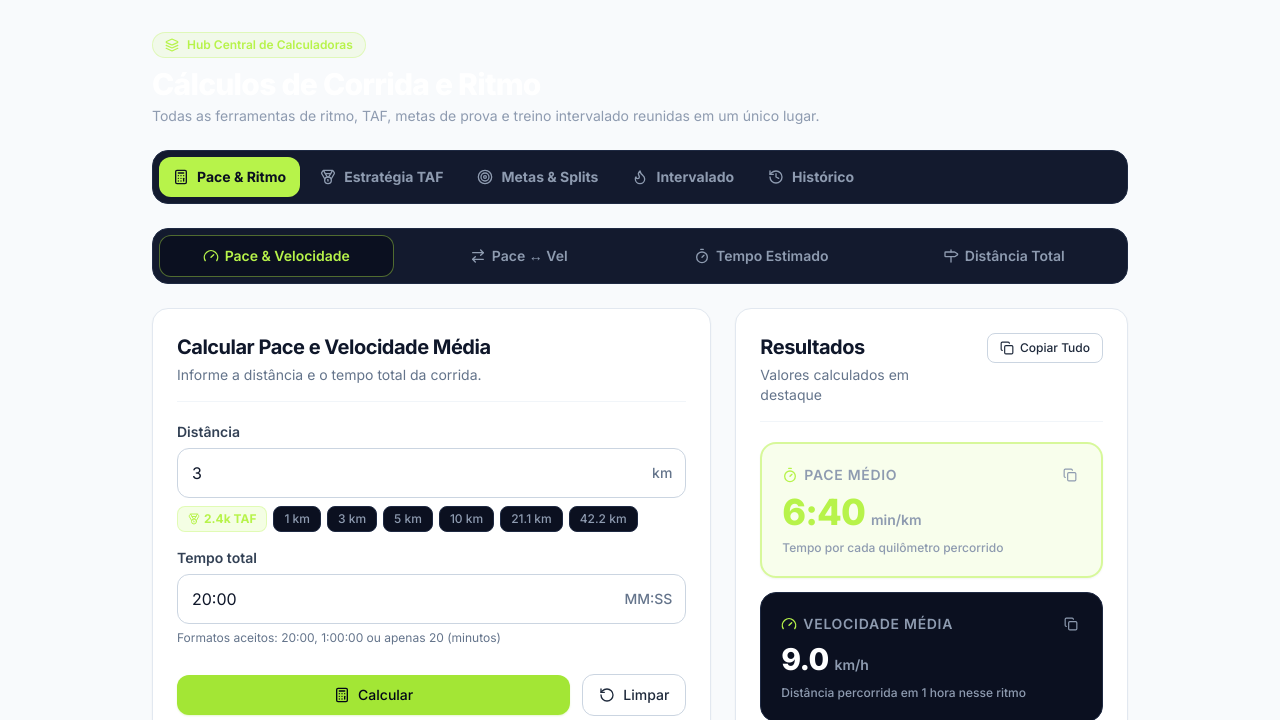
CalculadoraPage › calcula nova distância e tempo (5 km em 25:00 -> pace 5:00 e 12.0 km/h)
Replace the text in the field labelled "Distância" with "5" at coordinates (432, 473), box x1=177 y1=448 x2=686 y2=498
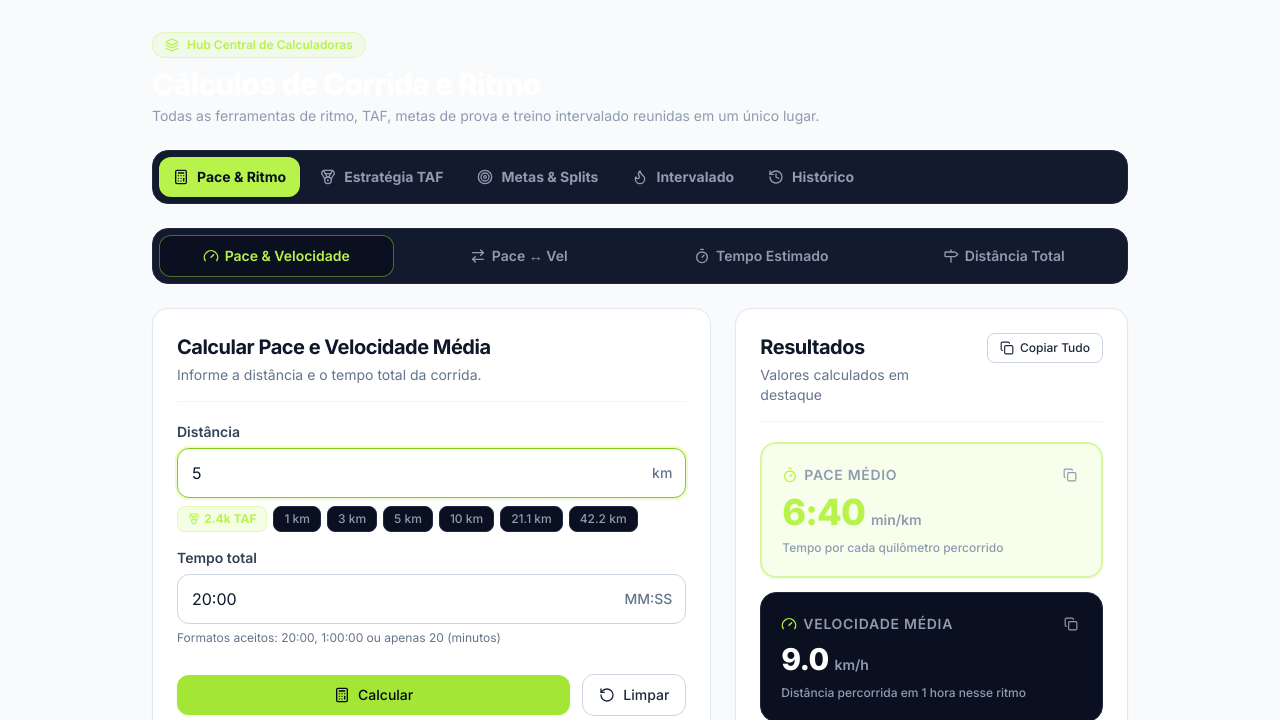
Replace the text in the field labelled "Tempo total" with "25:00" at coordinates (432, 599), box x1=177 y1=574 x2=686 y2=624
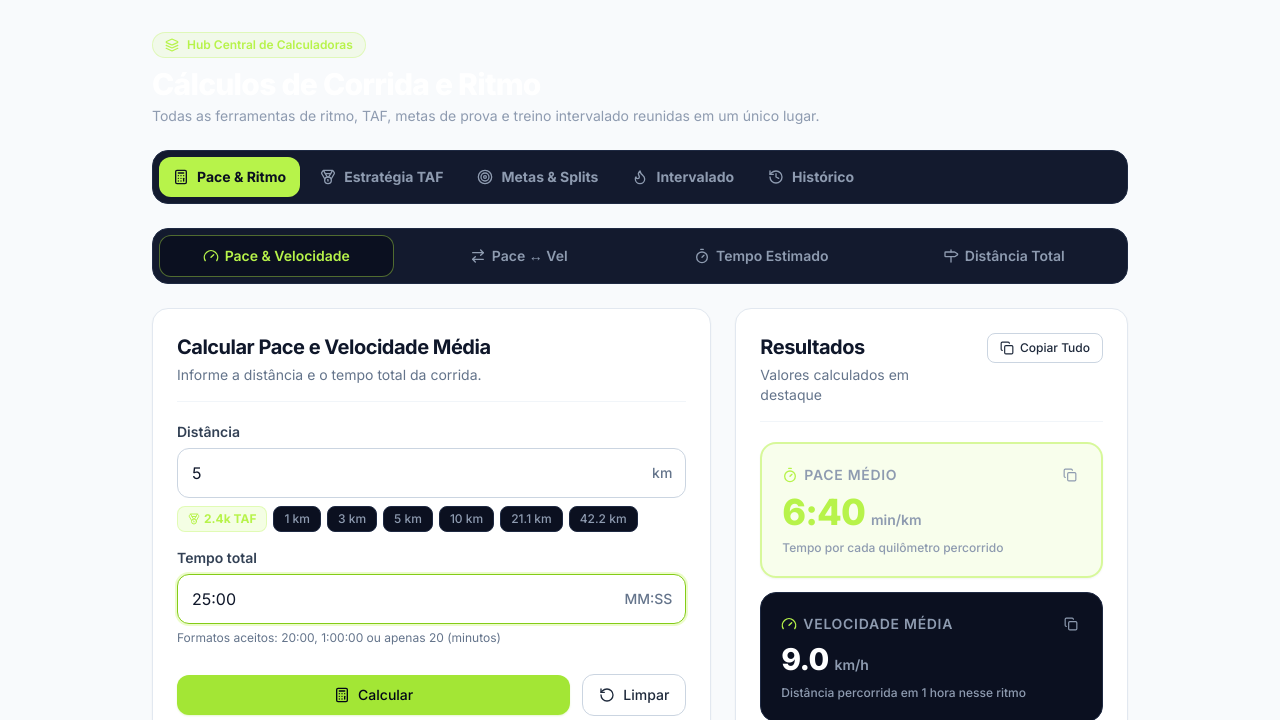
Click the button "Calcular" at coordinates (374, 695), box x1=177 y1=675 x2=570 y2=715
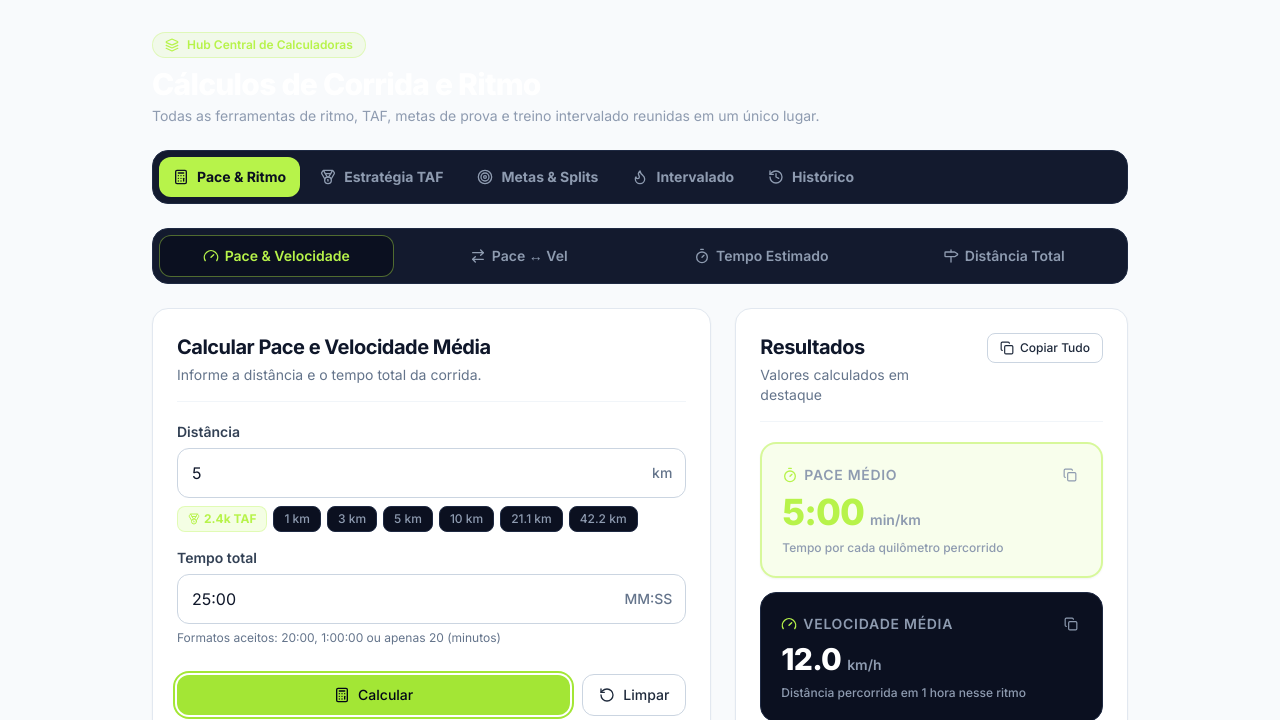
Now the text "5:00" is shown, box x1=782 y1=492 x2=864 y2=532
Now the text "12.0" is shown, box x1=781 y1=641 x2=841 y2=677
